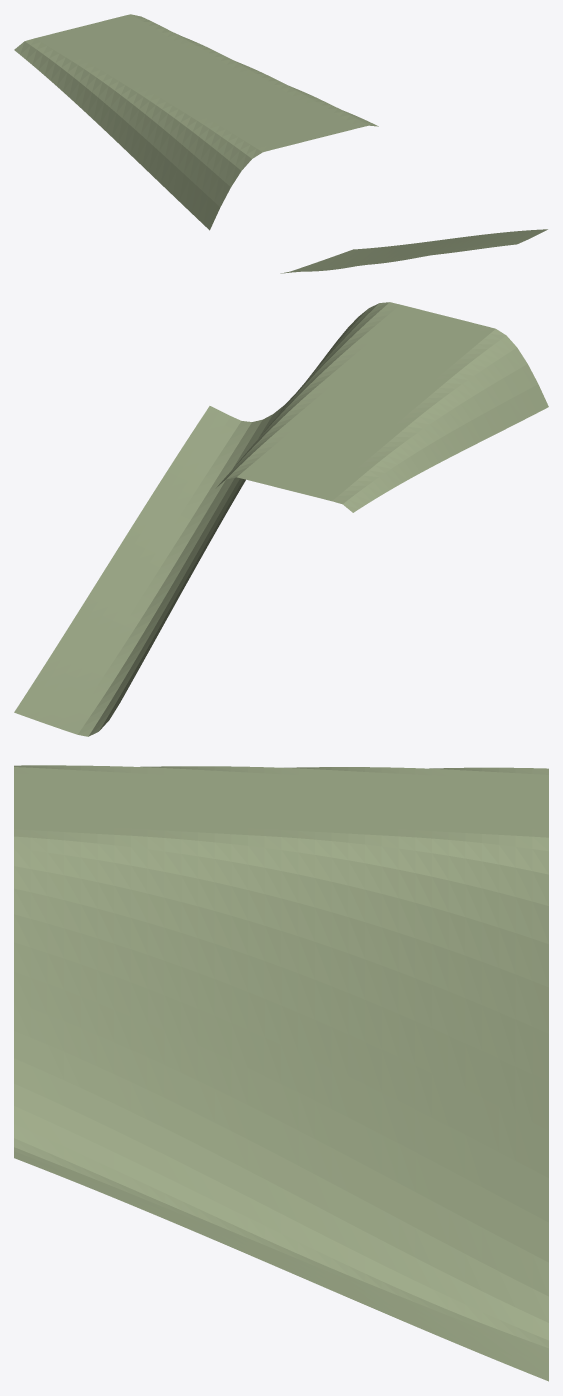
Rendered from alpine-12-7.glb.
The picture shows the model from 3 angles, top to bottom: view 1: azimuth 30°, elevation 25°; view 2: azimuth 150°, elevation 25°; view 3: azimuth 270°, elevation 25°; orthographic projection. The views are drawn at different scales.
Visible parts, largest first — view 1: alpine-12-7; view 2: alpine-12-7; view 3: alpine-12-7.
Part boxes in pixels (x1=…): alpine-12-7: x1=14, y1=14, x2=547, y2=273; alpine-12-7: x1=14, y1=302, x2=548, y2=736; alpine-12-7: x1=14, y1=765, x2=548, y2=1381.
Size of the model in its own units: 256 by 229 by 256.
